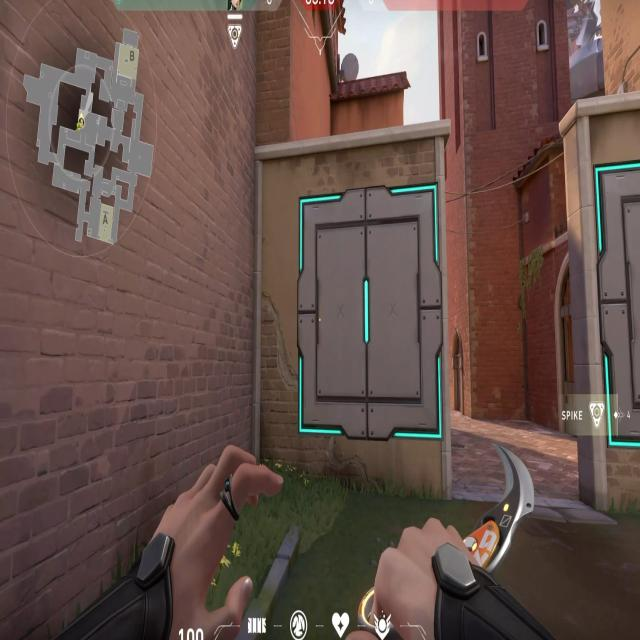Mid_Wall: (284, 147, 459, 508)
